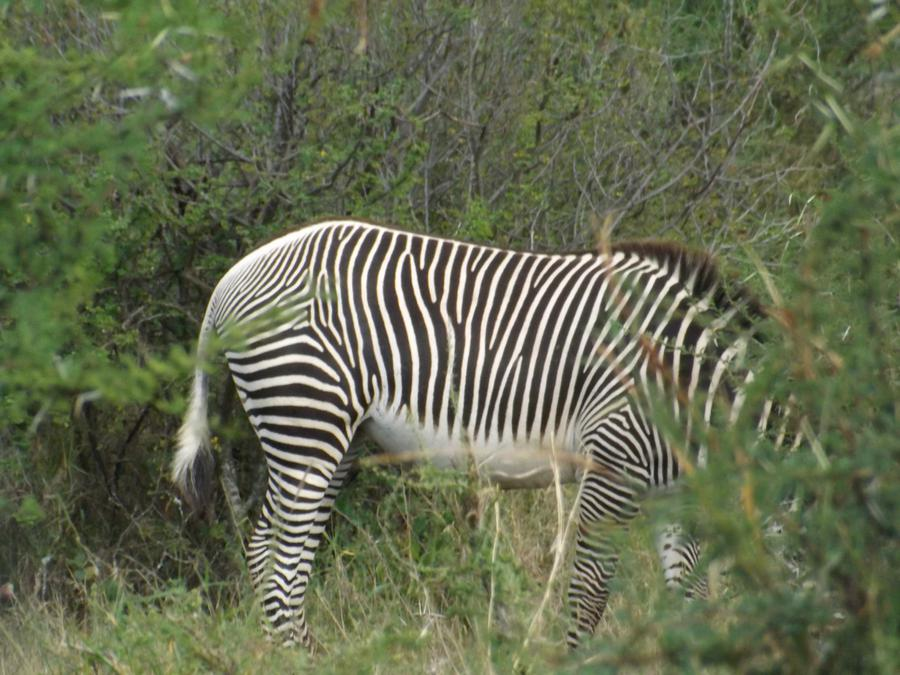zebra_grevys: (211, 190, 663, 481)
